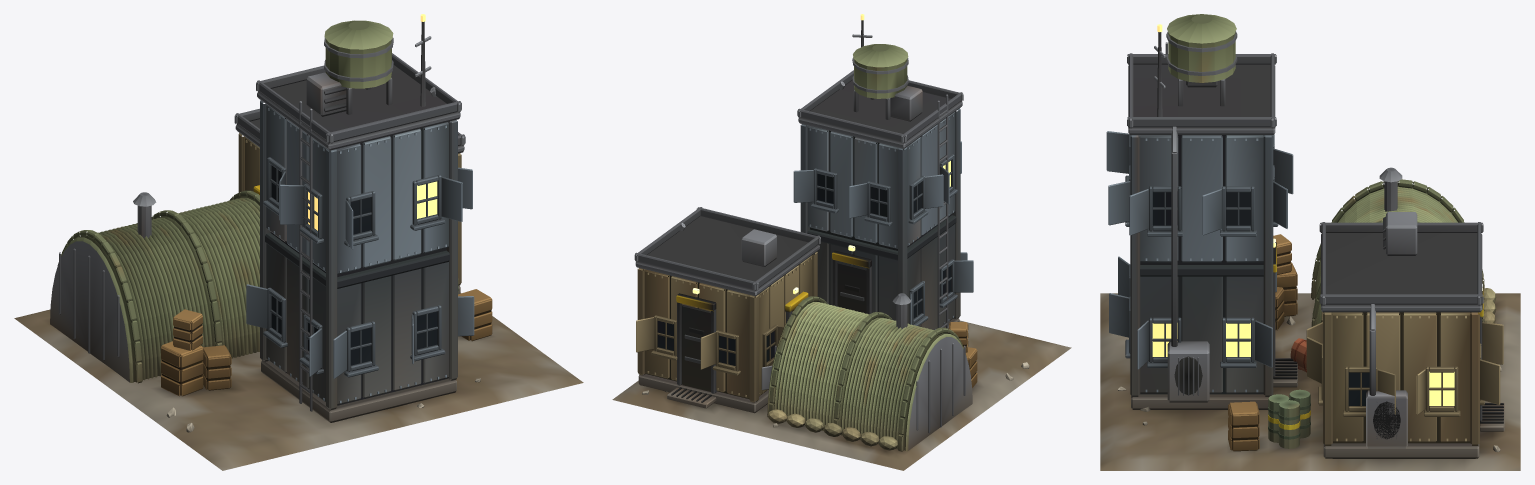
Rendered from huts.glb.
3 renders of one model, left to right at view 1: azimuth 30°, elevation 25°; view 2: azimuth 150°, elevation 25°; view 3: azimuth 270°, elevation 25°, orthographic. The views are drawn at different scales.
Parts seen in each view (by area): view 1: huts; view 2: huts; view 3: huts.
Boxes of the visible parts, x1,y1,x2,y2 form: huts: (14, 14, 583, 470); huts: (612, 14, 1071, 470); huts: (1100, 14, 1520, 470).
Bounding box in the file's own units: 1 × 1 × 1.
